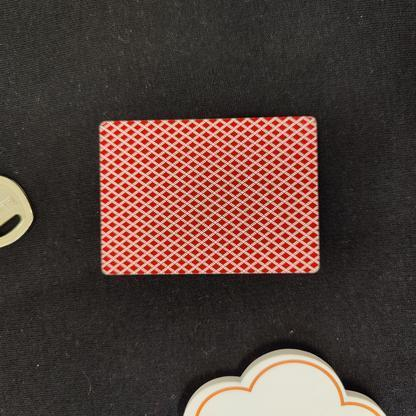card: (78, 104, 332, 285)
